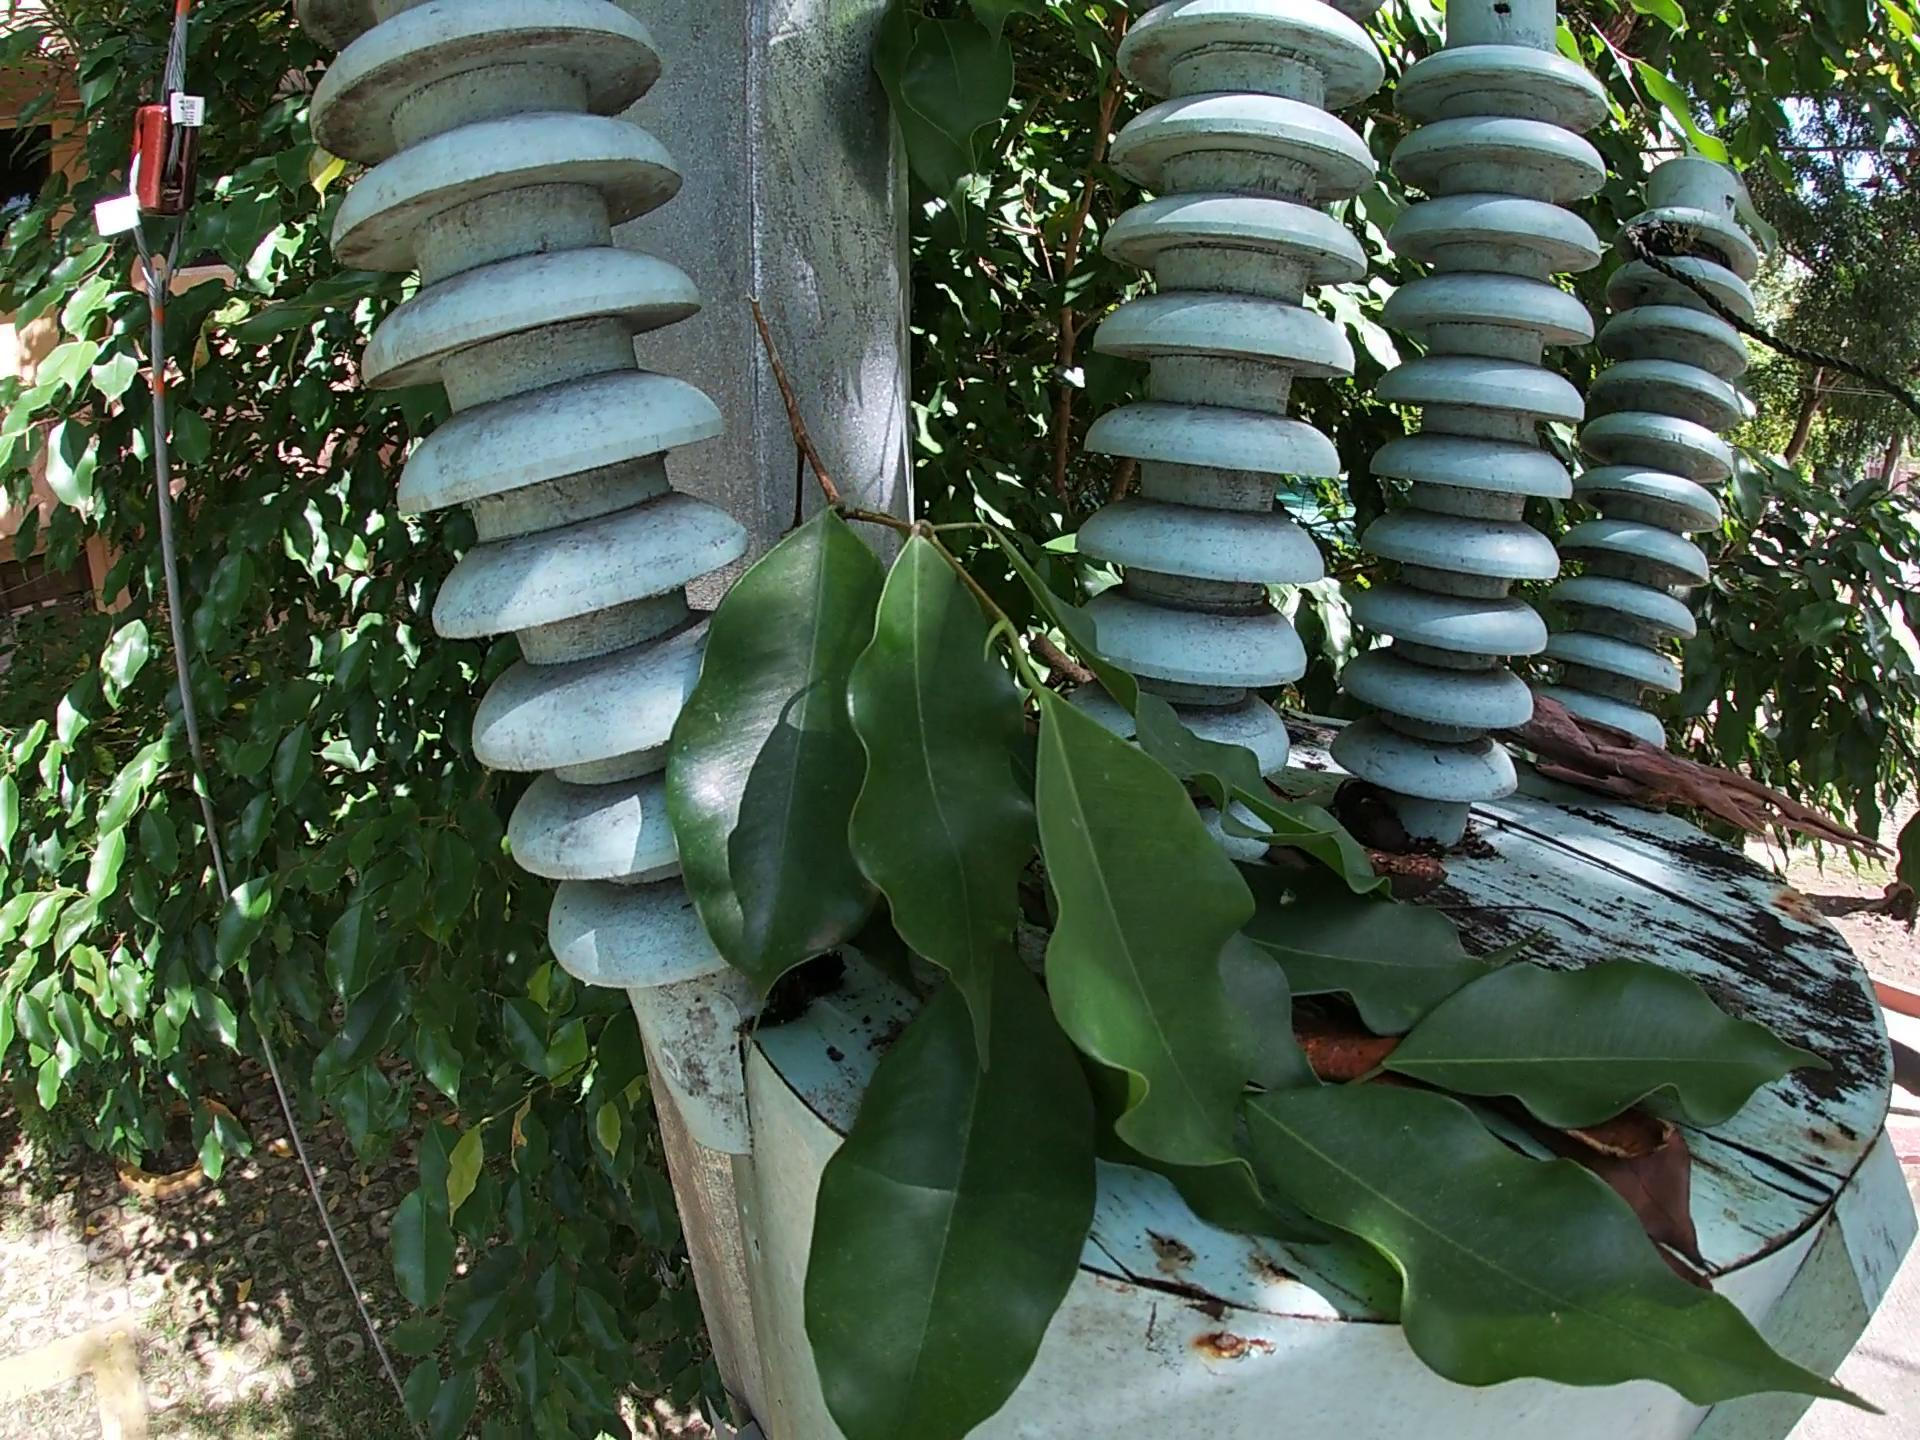branch with leaves: (643, 281, 1906, 1429)
leaf: (1609, 1145, 1739, 1290), (1308, 1026, 1430, 1077)
mahogany fruit: (1293, 802, 1466, 895), (1556, 1113, 1680, 1175)
tree branch: (1524, 691, 1911, 879), (1488, 814, 1838, 992), (1022, 643, 1105, 681)
